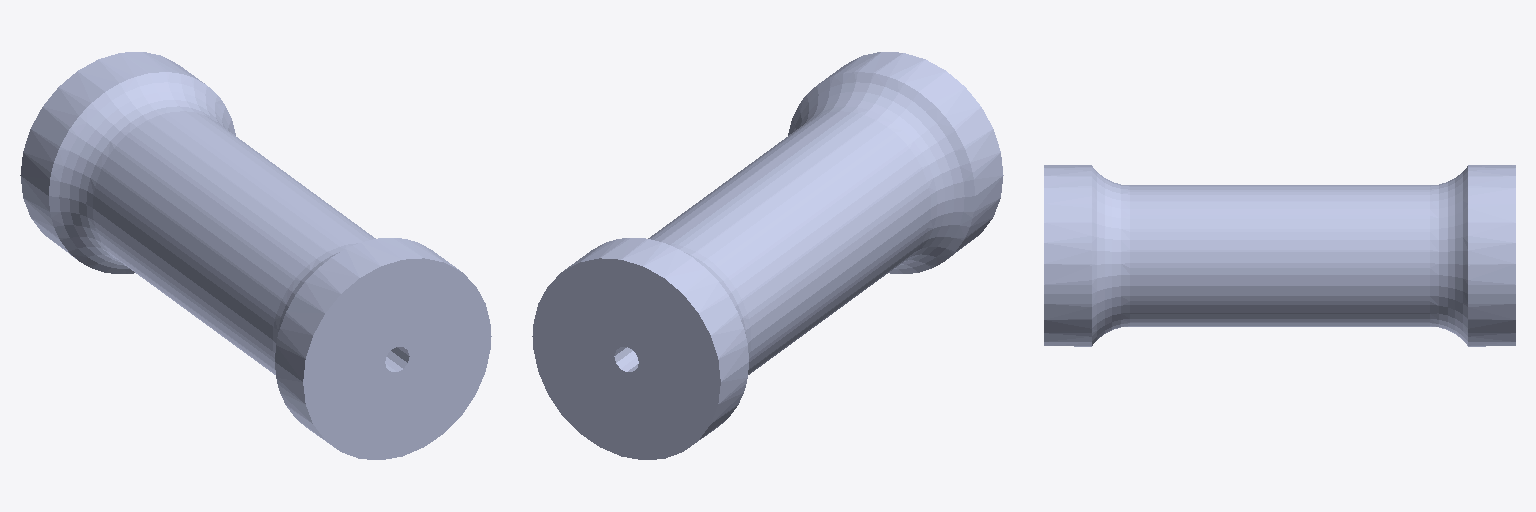
The robot description file, URDF, robot "standoff_urdf":
<?xml version="1.0" encoding="utf-8"?>
<!-- This URDF was automatically created by SolidWorks to URDF Exporter! Originally created by [author] ([email redacted]) 
     Commit Version: 1.6.0-1-g15f4949  Build Version: 1.6.7594.29634
     For more information, please see http://wiki.ros.org/sw_urdf_exporter -->
<robot
  name="standoff_urdf">
  <link
    name="base_link">
    <inertial>
      <origin
        xyz="-0.0253563258283975 -0.0139316653425681 0.0228451553747959"
        rpy="0 0 0" />
      <mass
        value="0.045340595783361" />
      <inertia
        ixx="6.47455351909837E-05"
        ixy="-4.06101505776251E-38"
        ixz="-1.69997465603206E-36"
        iyy="6.47455351909837E-05"
        iyz="-2.54963018589186E-37"
        izz="8.62231028291212E-06" />
    </inertial>
    <visual>
      <origin
        xyz="0 0 0"
        rpy="0 0 0" />
      <geometry>
        <mesh
          filename="package://standoff_urdf/meshes/base_link.STL" />
      </geometry>
      <material
        name="">
        <color
          rgba="0.792156862745098 0.819607843137255 0.933333333333333 1" />
      </material>
    </visual>
    <!-- <collision>
      <origin
        xyz="0 0 0"
        rpy="0 0 0" />
      <geometry>
        <mesh
          filename="package://standoff_urdf/meshes/base_link.STL" />
      </geometry>
    </collision> -->
  </link>
</robot>

--- Facts derived from the render (not from the file) ---
3 views of the same robot in one strip: view 1: azimuth 30°, elevation 25°; view 2: azimuth 150°, elevation 25°; view 3: azimuth 270°, elevation 25° (orthographic).
Model standoff_urdf with 1 links and 0 joints (none), rooted at base_link, posed every joint at zero.
Links seen in each view (by area): view 1: base_link; view 2: base_link; view 3: base_link.
Boxes of the visible links, box(x1,y1,x2,y2) form: base_link: box(20, 52, 491, 459); base_link: box(532, 52, 1003, 459); base_link: box(1044, 165, 1515, 346).
Bounding box of the posed robot: 0.0385 × 0.1 × 0.0384 m (x, y, z).
1 mesh visuals loaded from 1 distinct referenced files (1 binary STL).
